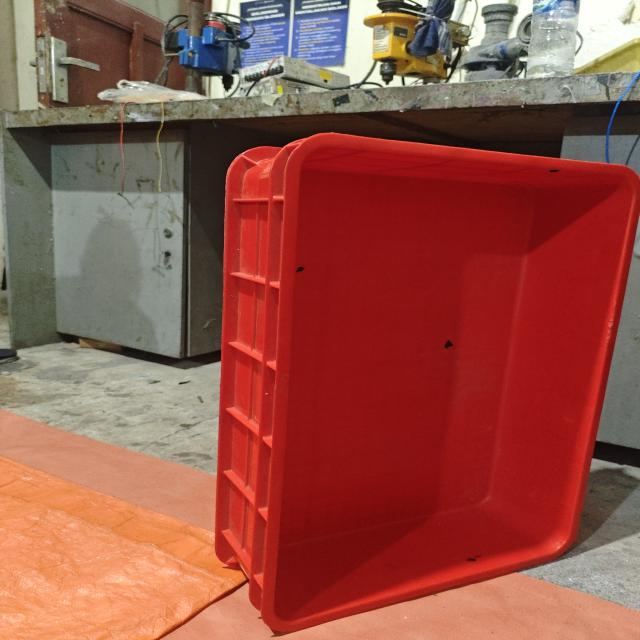red plastic box: (214, 133, 640, 634)
